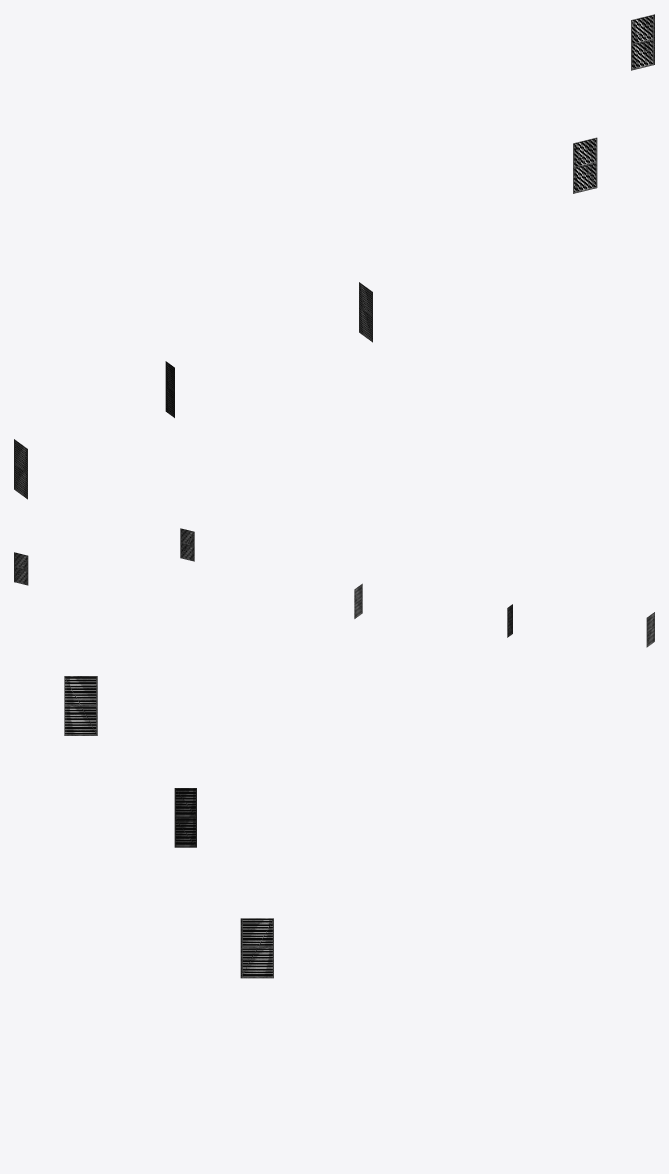
The model's file is ComplexGE_Alpha_13.glb.
3 renders of one model, top to bottom at view 1: azimuth 30°, elevation 25°; view 2: azimuth 150°, elevation 25°; view 3: azimuth 270°, elevation 25°, orthographic. The views are drawn at different scales.
Visible parts, largest first — view 1: ComplexGE_Alpha_13; view 2: ComplexGE_Alpha_13; view 3: ComplexGE_Alpha_13.
Part boxes in pixels (x1,y1,x2,y2): ComplexGE_Alpha_13: (14,14,654,499); ComplexGE_Alpha_13: (14,528,654,647); ComplexGE_Alpha_13: (64,676,273,978).
Bounding box in the file's own units: 502 × 61.5 × 232.
1 material, 1 textured.
